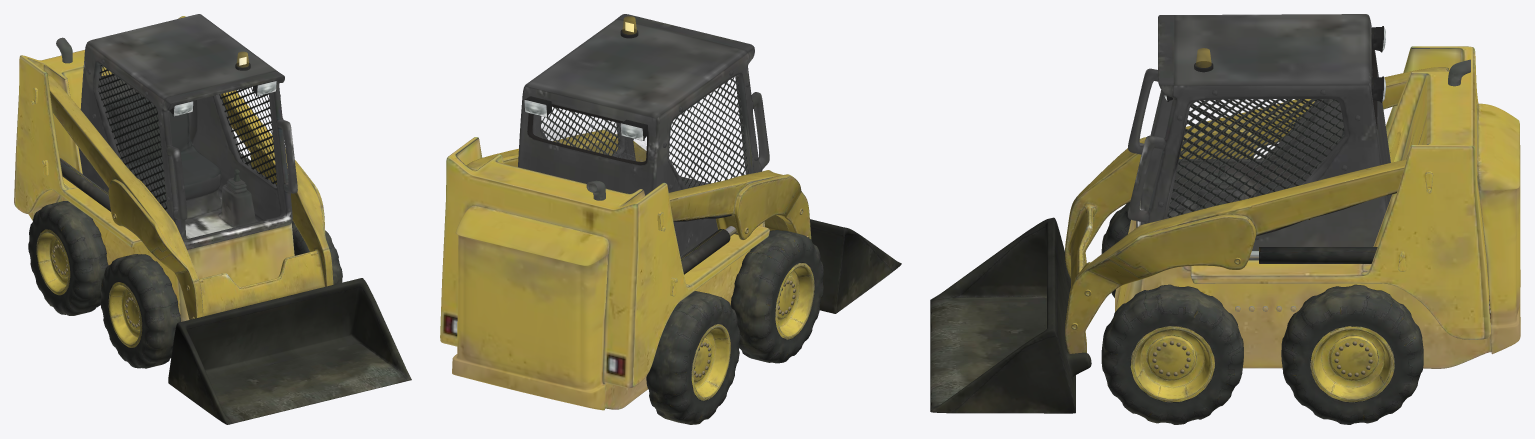
File: skid-steer-loader.glb
3 views of the same model, side by side, from view 1: azimuth 30°, elevation 25°; view 2: azimuth 150°, elevation 25°; view 3: azimuth 270°, elevation 25° (orthographic). The views are drawn at different scales.
Visible parts, largest first — view 1: Body_0, Bucket_0, lift arms_0, wheel Ft R_0, wheel Bk R_0, Plane.002_0, Plane.001_0, wheel Ft L_0; view 2: Body_0, wheel Ft R_0, wheel Bk R_0, lift arms_0, Bucket_0, Plane.002_0, Plane.001_0, Plane.004_0; view 3: Body_0, lift arms_0, Bucket_0, wheel Bk L_0, wheel Ft L_0, Plane.001_0, Plane.002_0, wheel Ft R_0.
Part boxes in pixels (x1,y1,x2,y2): Body_0: (14,14,297,321); Bucket_0: (168,278,411,424); lift arms_0: (47,74,333,319); wheel Ft R_0: (100,254,180,368); wheel Bk R_0: (28,201,108,315); Plane.002_0: (98,65,167,210); Plane.001_0: (219,86,276,186); wheel Ft L_0: (292,220,342,284); Body_0: (440,14,769,410); wheel Ft R_0: (730,230,823,363); wheel Bk R_0: (646,291,740,424); lift arms_0: (466,129,811,274); Bucket_0: (810,219,901,313); Plane.002_0: (669,75,748,188); Plane.001_0: (541,107,620,155); Plane.004_0: (533,116,646,161); Body_0: (1115,14,1520,368); lift arms_0: (1065,67,1449,353); Bucket_0: (930,217,1091,413); wheel Bk L_0: (1281,284,1423,424); wheel Ft L_0: (1101,284,1243,424); Plane.001_0: (1167,99,1344,217); Plane.002_0: (1179,99,1316,160); wheel Ft R_0: (1101,202,1130,297).
Bounding box in the file's own units: 2.03 × 2.69 × 4.24.
8 materials, 6 textured.
